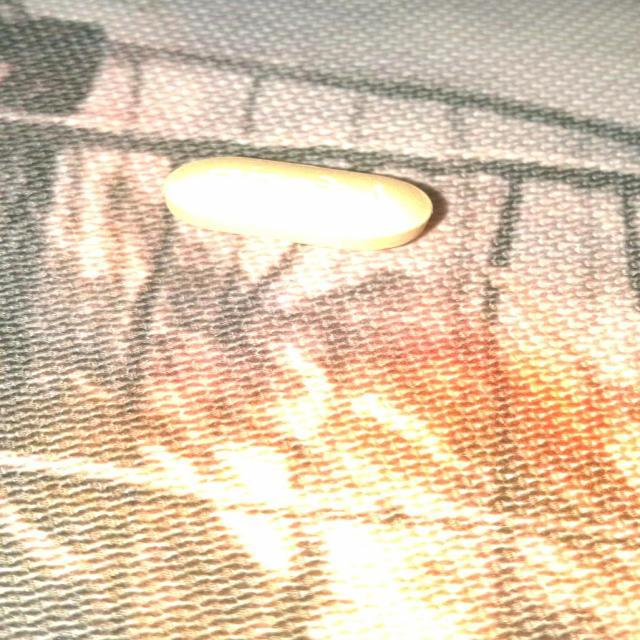pill: (155, 154, 436, 252)
